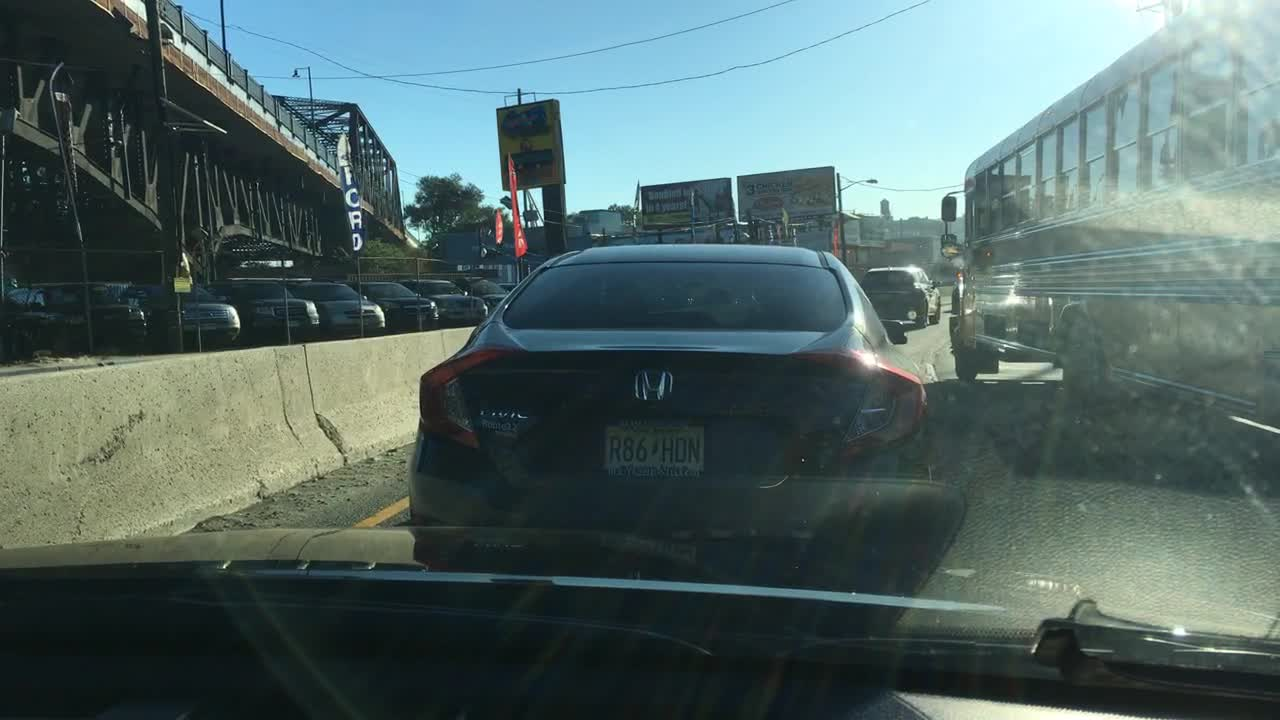car: (406, 241, 933, 598), (938, 2, 1277, 431), (0, 283, 148, 353), (118, 278, 241, 348), (199, 276, 321, 346), (277, 278, 387, 340), (337, 277, 440, 334), (858, 263, 942, 330), (390, 276, 489, 328), (453, 275, 510, 306)
traffic sign: (172, 275, 193, 292)
